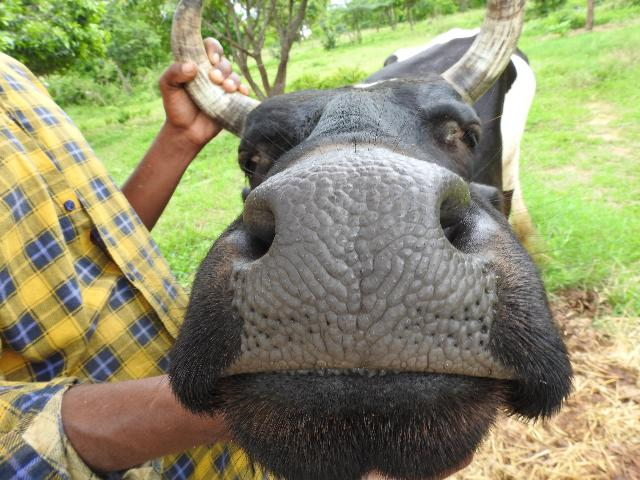Muzzle: (270, 174, 448, 372)
